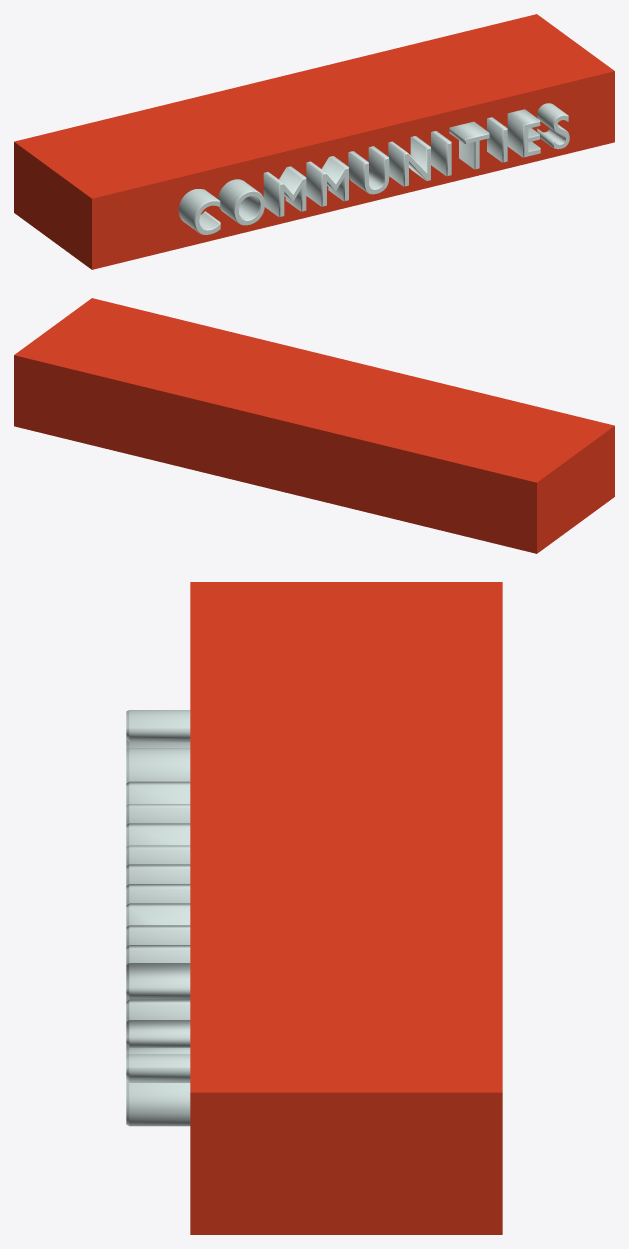
File: community.gltf
3 views of the same model, one above another, from view 1: azimuth 30°, elevation 25°; view 2: azimuth 150°, elevation 25°; view 3: azimuth 270°, elevation 25° (orthographic). The views are drawn at different scales.
Parts seen in each view (by area): view 1: Cube.006, CEELS.006; view 2: Cube.006; view 3: Cube.006, CEELS.006.
Boxes of the visible parts, <box> form: Cube.006: <box>14,14,614,269</box>; CEELS.006: <box>178,103,569,234</box>; Cube.006: <box>14,298,614,553</box>; Cube.006: <box>190,582,502,1234</box>; CEELS.006: <box>126,710,190,1126</box>.
Size of the model in its own units: 5.31 by 0.6912 by 1.65.
